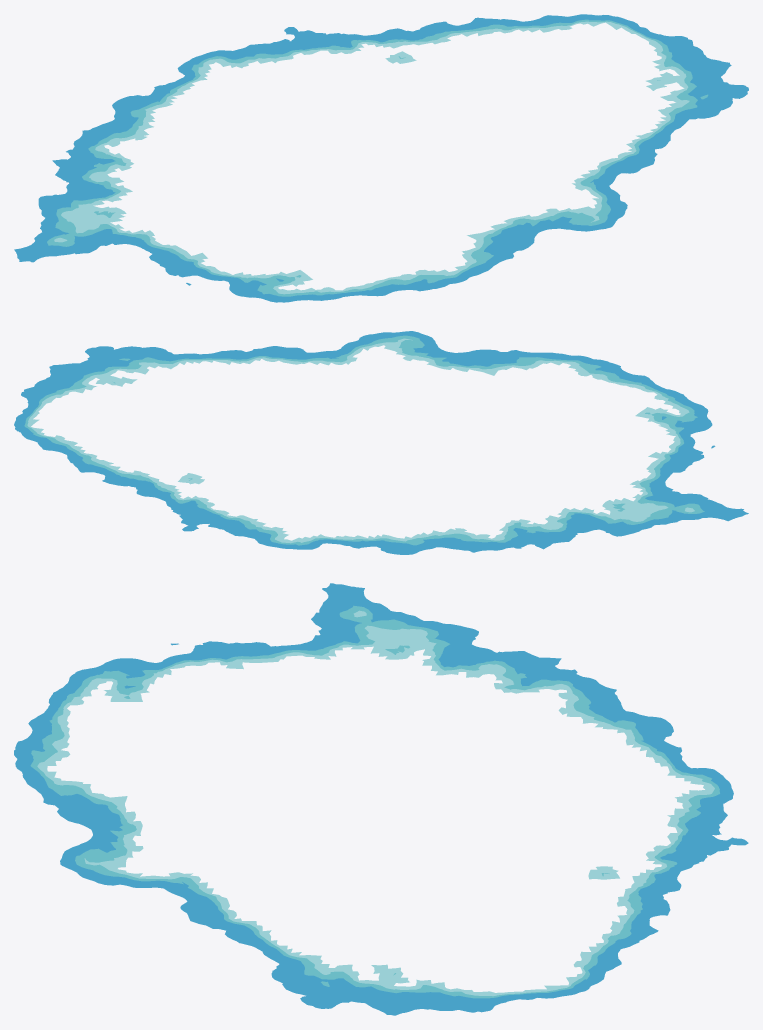
Rendered from Isl-start3-Water.fbx.
3 renders of one model, top to bottom at view 1: azimuth 30°, elevation 25°; view 2: azimuth 150°, elevation 25°; view 3: azimuth 270°, elevation 25°, orthographic. The views are drawn at different scales.
Visible parts, largest first — view 1: Isl-start3-Water; view 2: Isl-start3-Water; view 3: Isl-start3-Water.
Part boxes in pixels (x1,y1,x2,y2): Isl-start3-Water: (14, 14, 748, 302); Isl-start3-Water: (14, 331, 748, 554); Isl-start3-Water: (14, 583, 748, 1015).
Size of the model in its own units: 142 by 0 by 102.
